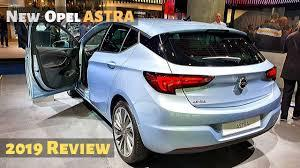opel: (235, 74, 251, 90)
